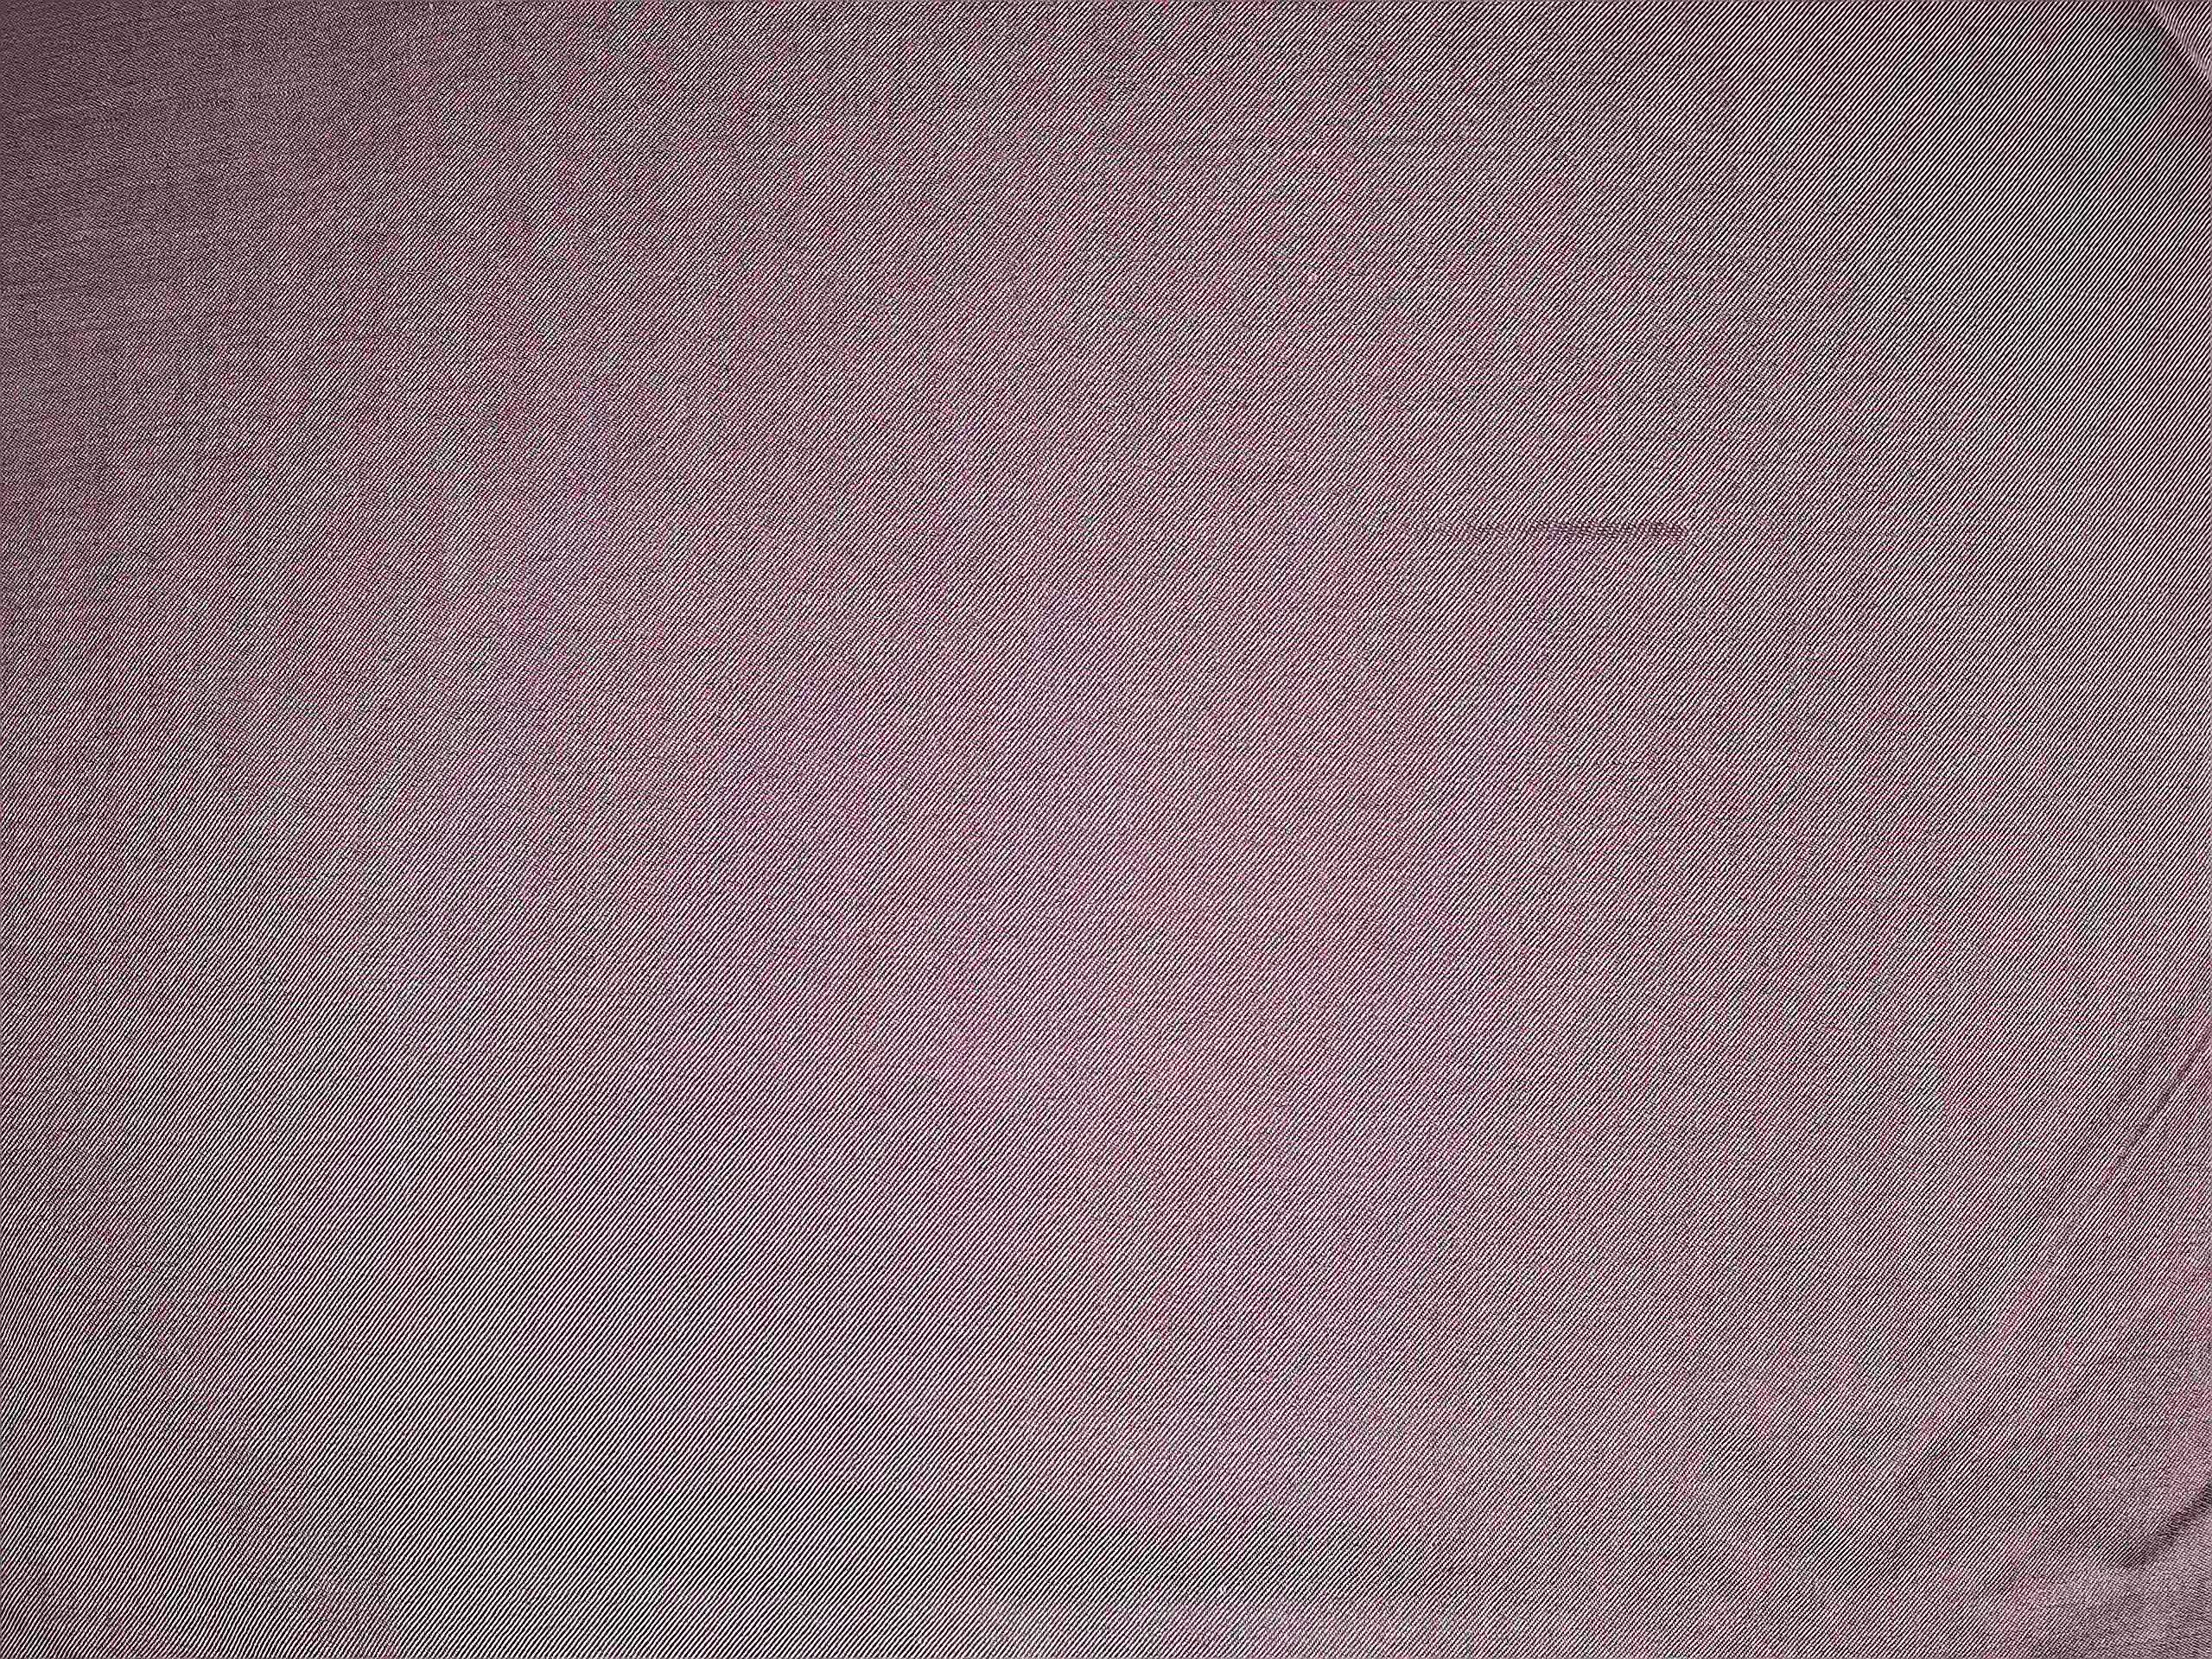thin-spinning: (1367, 491, 1714, 566)
